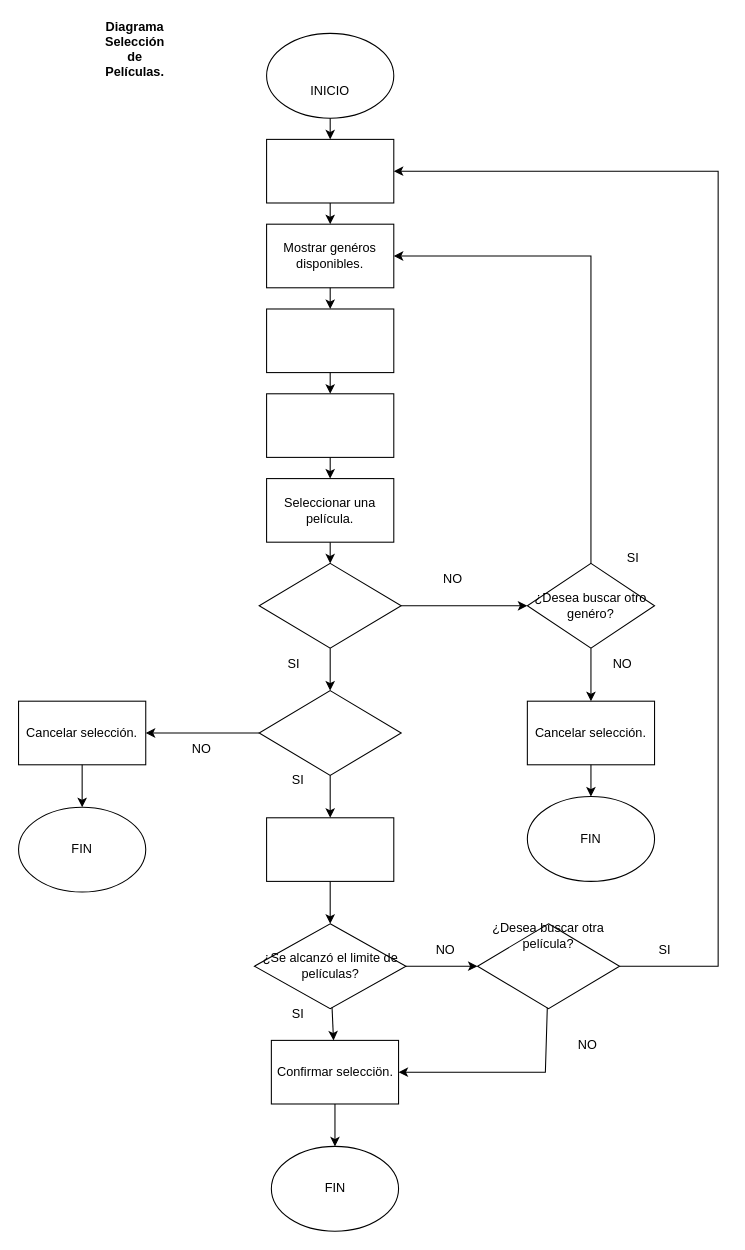
Image size: 745x1250. Some labels were removed from this diagram. Here are the shapes that lost their labels. From the top down, the box of each, then its label:
(266, 138, 394, 203): Mostrar catálogo.
(266, 308, 394, 373): Seleccionar un genéro.
(266, 393, 394, 457): Buscar películas de dicho genéro.
(258, 562, 401, 648): ¿Desea rentar dicha película?
(258, 690, 401, 775): ¿Está disponible en stock?
(266, 817, 394, 881): Agregar película a la selección.
